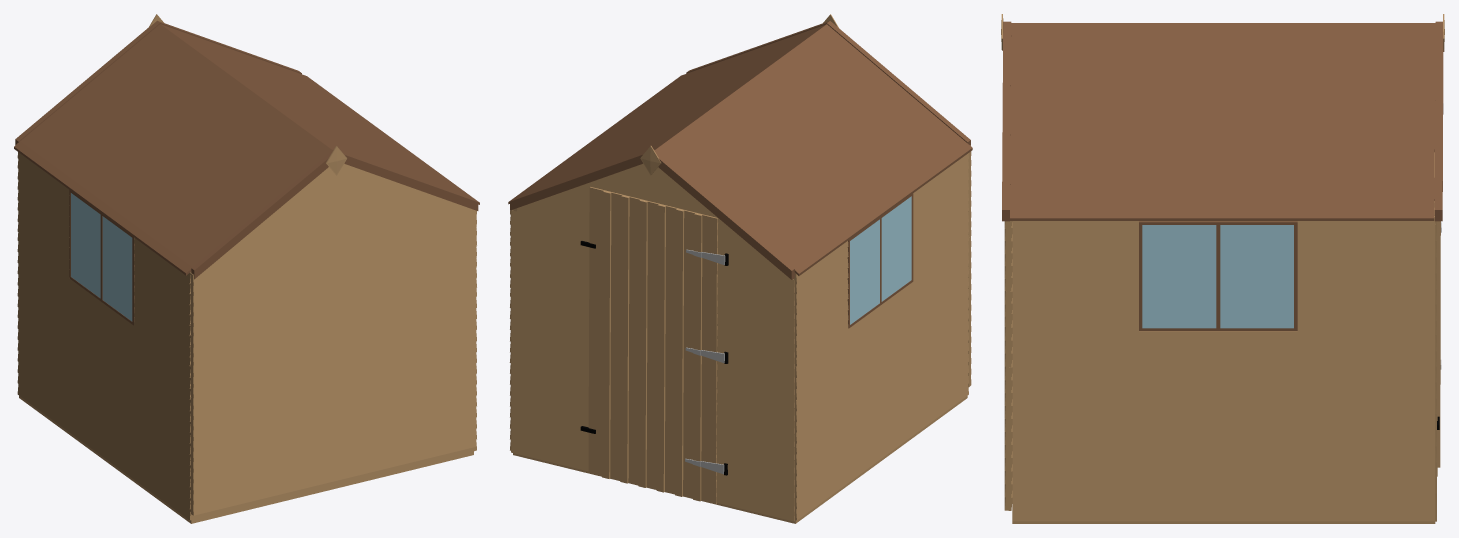
The model's file is Shed.fbx.
The picture shows the model from 3 angles, left to right: view 1: azimuth 30°, elevation 25°; view 2: azimuth 150°, elevation 25°; view 3: azimuth 270°, elevation 25°; orthographic projection. The views are drawn at different scales.
Visible parts, largest first — view 1: Cube.008; view 2: Cube.008; view 3: Cube.008.
Boxes of the visible parts, <box> form: Cube.008: <box>14,14,479,523</box>; Cube.008: <box>508,14,972,523</box>; Cube.008: <box>1001,14,1444,523</box>.
Size of the model in its own units: 596 by 675 by 638.
